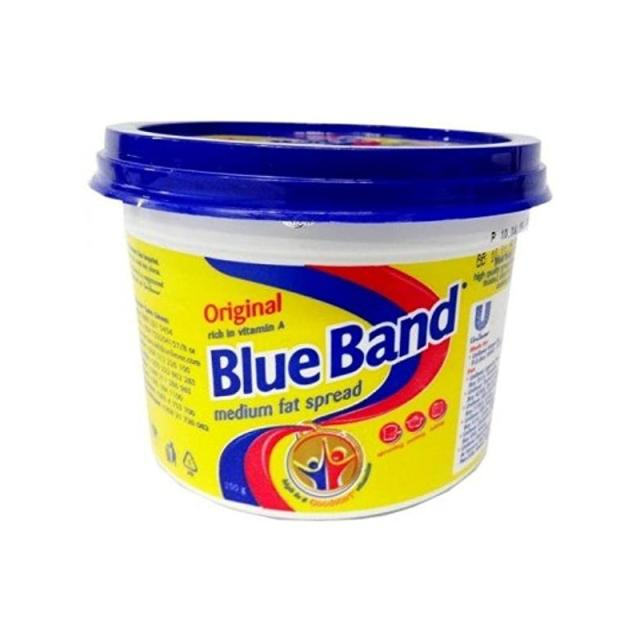butter: (88, 118, 552, 521)
